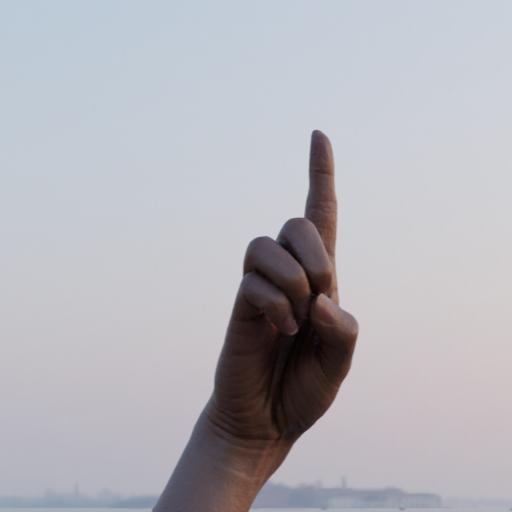D: (216, 124, 372, 431)
